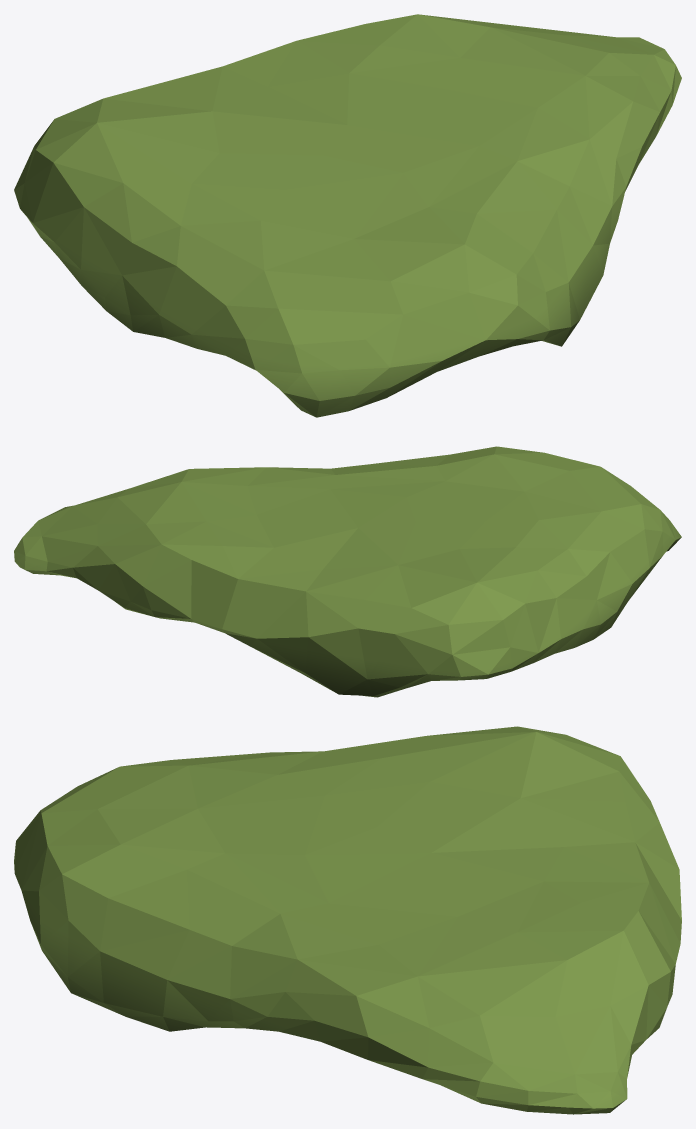
File: Jungle_PlatformRock_Med_B_Grass.fbx
The picture shows the model from 3 angles, top to bottom: view 1: azimuth 30°, elevation 25°; view 2: azimuth 150°, elevation 25°; view 3: azimuth 270°, elevation 25°; orthographic projection. The views are drawn at different scales.
Visible parts, largest first — view 1: Jungle_PlatformRock_Med_B_Grass; view 2: Jungle_PlatformRock_Med_B_Grass; view 3: Jungle_PlatformRock_Med_B_Grass.
Part boxes in pixels (x1=…): Jungle_PlatformRock_Med_B_Grass: x1=14, y1=14, x2=681, y2=417; Jungle_PlatformRock_Med_B_Grass: x1=14, y1=446, x2=681, y2=697; Jungle_PlatformRock_Med_B_Grass: x1=14, y1=726, x2=681, y2=1114.
Size of the model in its own units: 11.51 by 2.28 by 9.69.
